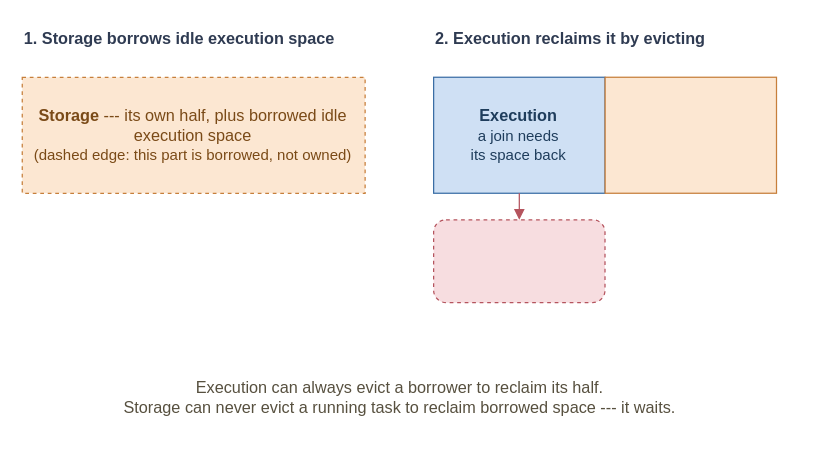
This 821x474 diagram has some shape labels left out. Here are the shapes that lost their labels. From the top down, the centre of each, then its label:
At [690,134]: "Storage its own half, kept".
At [518,260]: "LRU block evicted, recomputed later".
